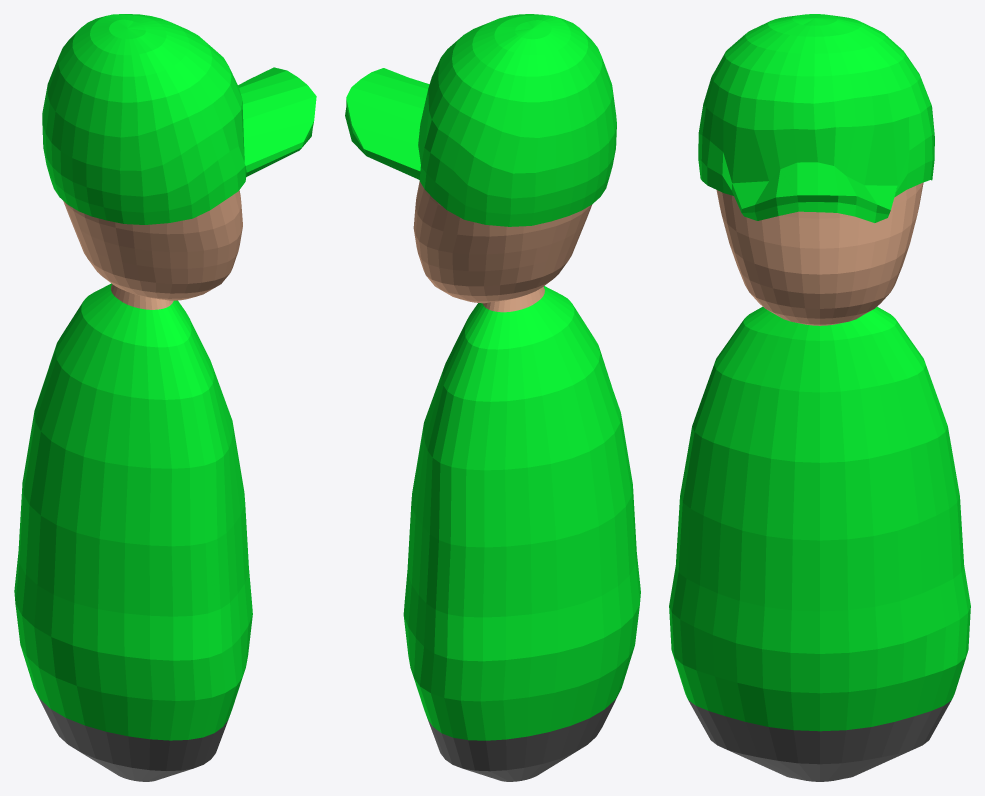
Rendered from GreenPassenger.fbx.
3 renders of one model, left to right at view 1: azimuth 30°, elevation 25°; view 2: azimuth 150°, elevation 25°; view 3: azimuth 270°, elevation 25°, orthographic.
Visible parts, largest first — view 1: Cylinder, Sphere.001, Sphere; view 2: Cylinder, Sphere.001, Sphere; view 3: Cylinder, Sphere.001, Sphere.
Boxes of the visible parts, x1,y1,x2,y2 form: Cylinder: (14,283,252,781); Sphere.001: (42,14,316,224); Sphere: (63,190,242,300); Cylinder: (403,286,640,781); Sphere.001: (345,14,616,226); Sphere: (413,181,592,303); Cylinder: (669,306,970,781); Sphere.001: (698,14,934,222); Sphere: (716,182,923,325).
Bounding box in the file's own units: 693 × 1884 × 683.
